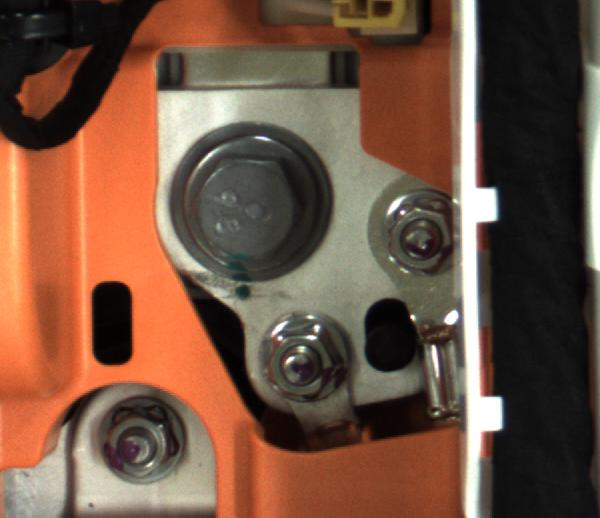screw_s: (93, 393, 186, 490), (262, 310, 355, 404), (379, 190, 457, 274)
